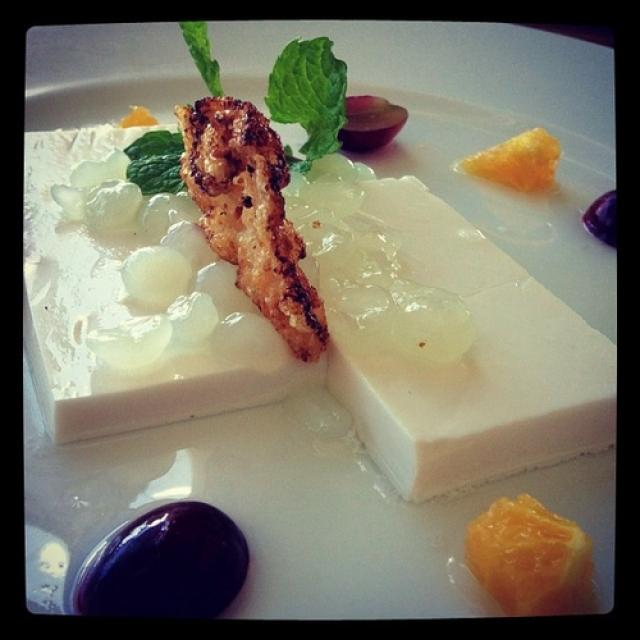蛋糕甜品: (23, 32, 598, 567)
